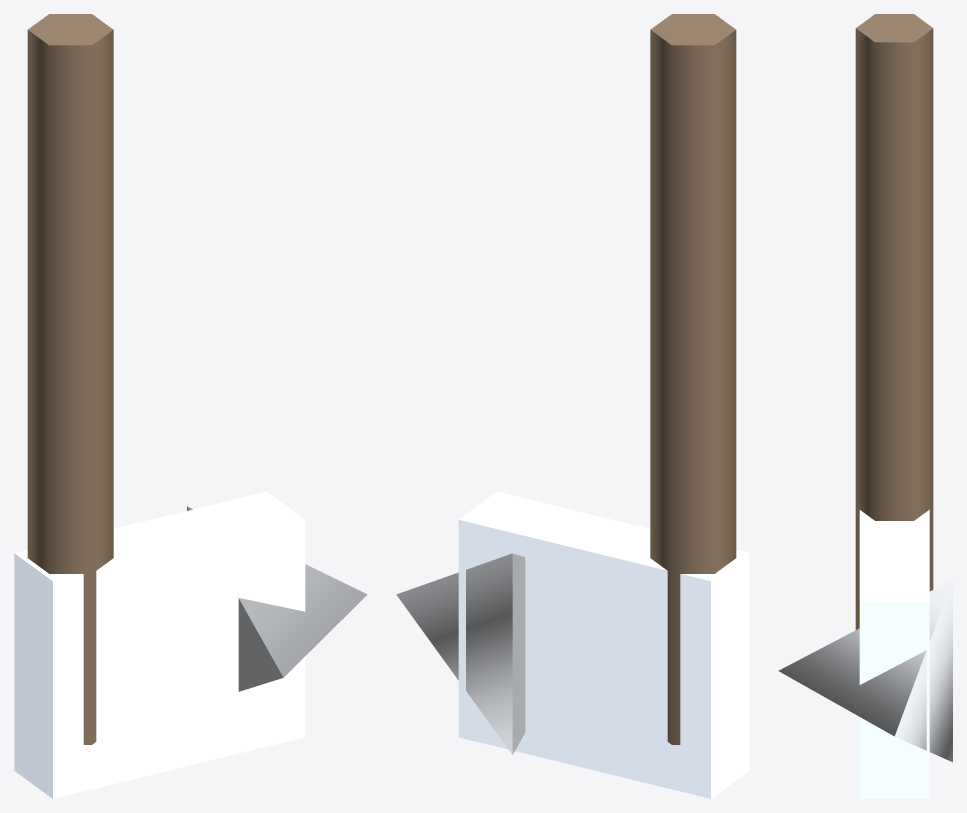
File: balta.glb
The picture shows the model from 3 angles, left to right: view 1: azimuth 30°, elevation 25°; view 2: azimuth 150°, elevation 25°; view 3: azimuth 270°, elevation 25°; orthographic projection. The views are drawn at different scales.
Bounding box in the file's own units: 0.45 × 0.96 × 0.225.
